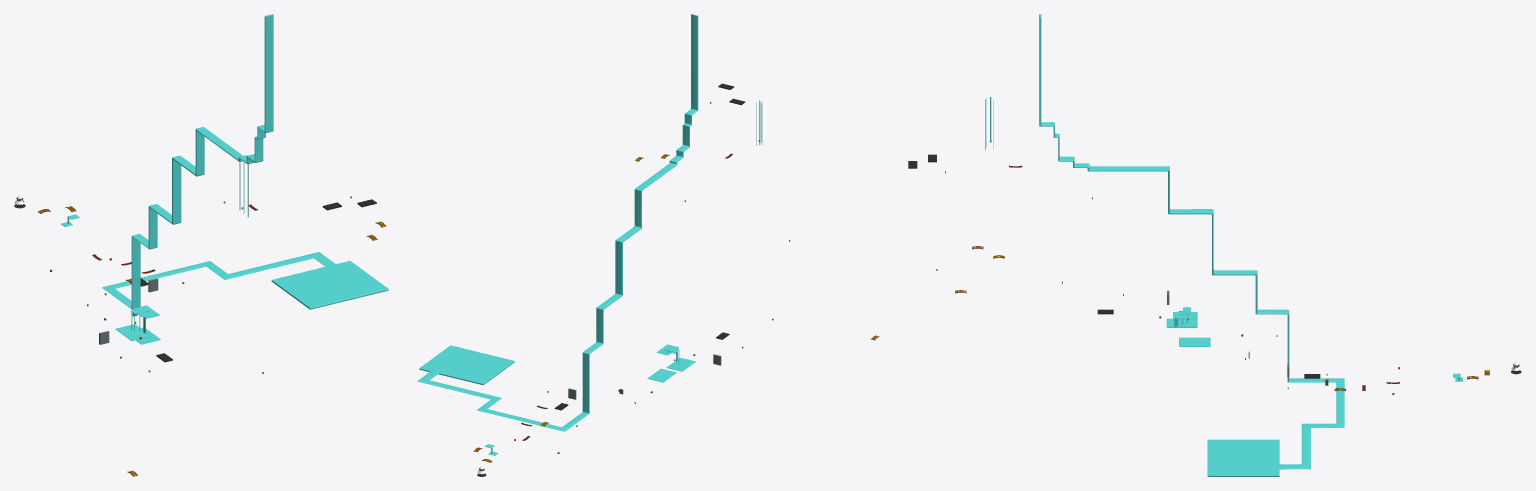
Rendered from Level7NoColliders.fbx.
3 views of the same model, side by side, from view 1: azimuth 30°, elevation 25°; view 2: azimuth 150°, elevation 25°; view 3: azimuth 270°, elevation 25° (orthographic). The views are drawn at different scales.
Parts seen in each view (by area): view 1: Water8, Water9; view 2: Water8, Water9; view 3: Water8, Water9.
Boxes of the visible parts, left/top/right/bottom form: Water8: left=102, top=14, right=335, bottom=309; Water9: left=271, top=261, right=388, bottom=309; Water8: left=417, top=14, right=698, bottom=431; Water9: left=419, top=345, right=514, bottom=385; Water8: left=1039, top=14, right=1344, bottom=469; Water9: left=1207, top=439, right=1279, bottom=476.
Bounding box in the file's own units: 255 × 245 × 372.
